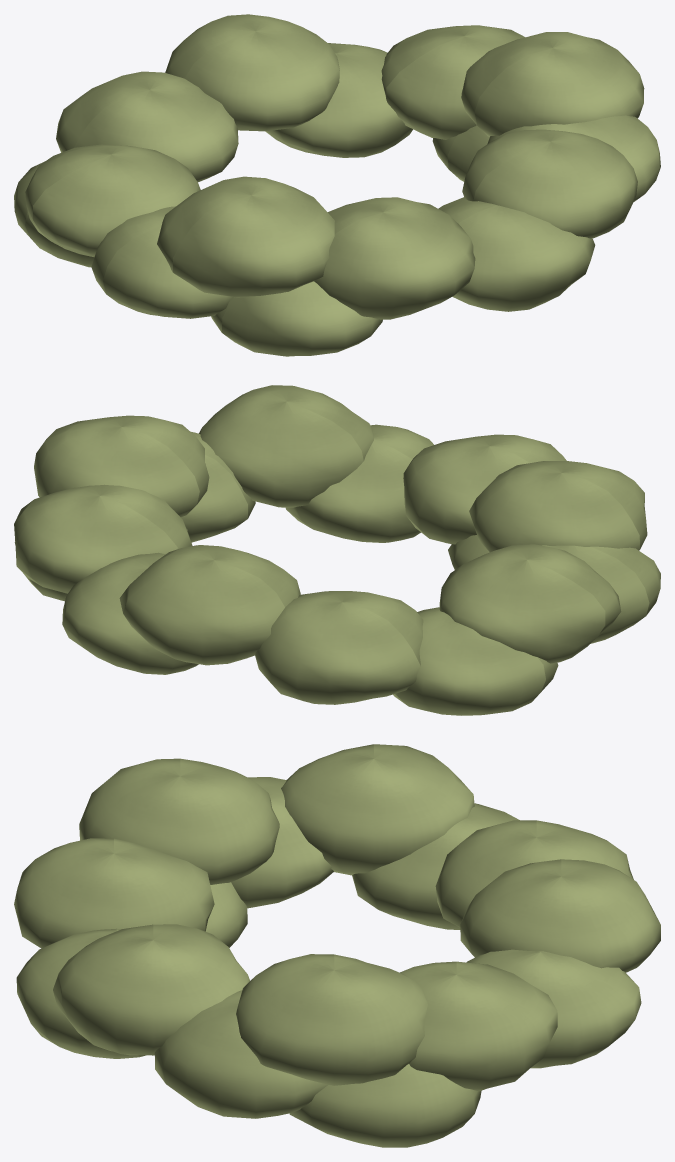
The model's file is sphagnum_mound_swamp_and_mangrove_22639.glb.
The picture shows the model from 3 angles, top to bottom: view 1: azimuth 30°, elevation 25°; view 2: azimuth 150°, elevation 25°; view 3: azimuth 270°, elevation 25°; orthographic projection. The views are drawn at different scales.
Parts seen in each view (by area): view 1: sphagnum-mound; view 2: sphagnum-mound; view 3: sphagnum-mound.
Part boxes in pixels (x1=…): sphagnum-mound: x1=14, y1=14, x2=660, y2=356; sphagnum-mound: x1=14, y1=385, x2=660, y2=715; sphagnum-mound: x1=14, y1=744, x2=660, y2=1147.
Size of the model in its own units: 1.63 by 0.4154 by 1.42.
1 material, 1 textured.
